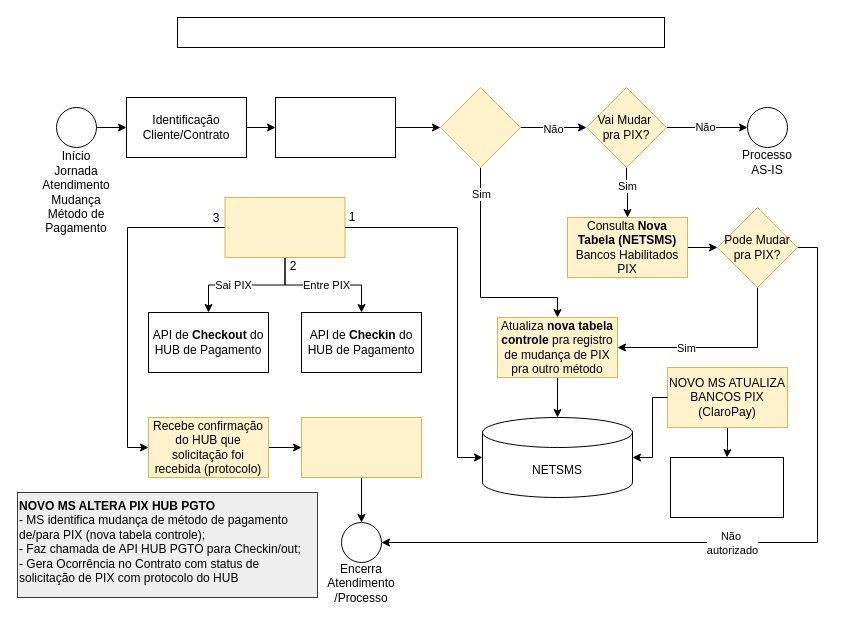
Some shapes in this 843 by 622 pixel diagram are drawn without their labels. Here are the shapes that lost their labels. From the top down, the centre of each, then its label:
the point at 420,32: CENÁRIO SEM CONSUMO DE API PELA APLICAÇÃO NETSMS
the point at 335,127: Tela de Método de pagamento
the point at 480,127: É PIX Atualmente?
the point at 284,227: NOVO MS ALTERA PIX HUB PGTO
the point at 361,447: Registra ocorrência no NETSMS com informação sobre solicitação de PIX
the point at 727,487: API ClaroPay (lista bancos)
